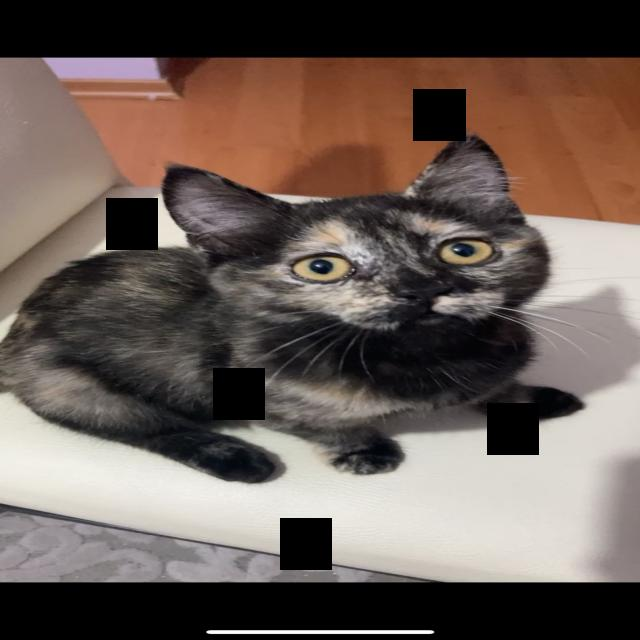authorized: (1, 132, 604, 484)
